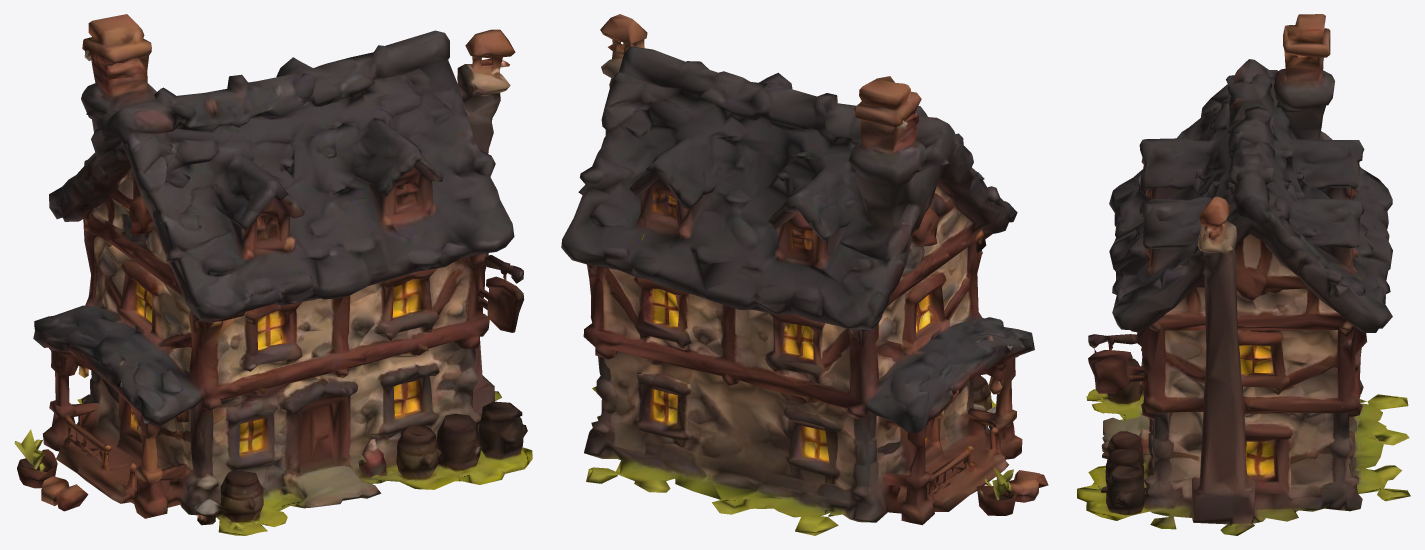
Rendered from tripo-taverna154.glb.
The picture shows the model from 3 angles, left to right: view 1: azimuth 30°, elevation 25°; view 2: azimuth 150°, elevation 25°; view 3: azimuth 270°, elevation 25°; orthographic projection. The views are drawn at different scales.
Parts seen in each view (by area): view 1: tripo_node_92992c1c-39d1-41a4-a349-7a201e62b414; view 2: tripo_node_92992c1c-39d1-41a4-a349-7a201e62b414; view 3: tripo_node_92992c1c-39d1-41a4-a349-7a201e62b414.
Part boxes in pixels (x1,y1,x2,y2): tripo_node_92992c1c-39d1-41a4-a349-7a201e62b414: [14, 14, 532, 535]; tripo_node_92992c1c-39d1-41a4-a349-7a201e62b414: [561, 14, 1048, 535]; tripo_node_92992c1c-39d1-41a4-a349-7a201e62b414: [1077, 14, 1410, 535].
Size of the model in its own units: 0.9724 by 0.8626 by 0.7048.
Materials: 1 (1 with a texture image).
